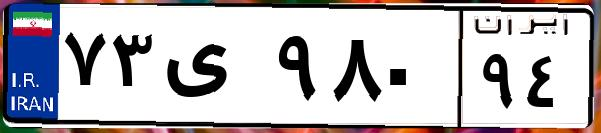0: (385, 28, 445, 110)
3: (110, 28, 158, 98)
4: (525, 38, 570, 115)
7: (57, 26, 110, 100)
8: (330, 28, 385, 110)
9: (270, 28, 330, 110), (475, 38, 525, 113)
ی: (158, 20, 270, 120)
